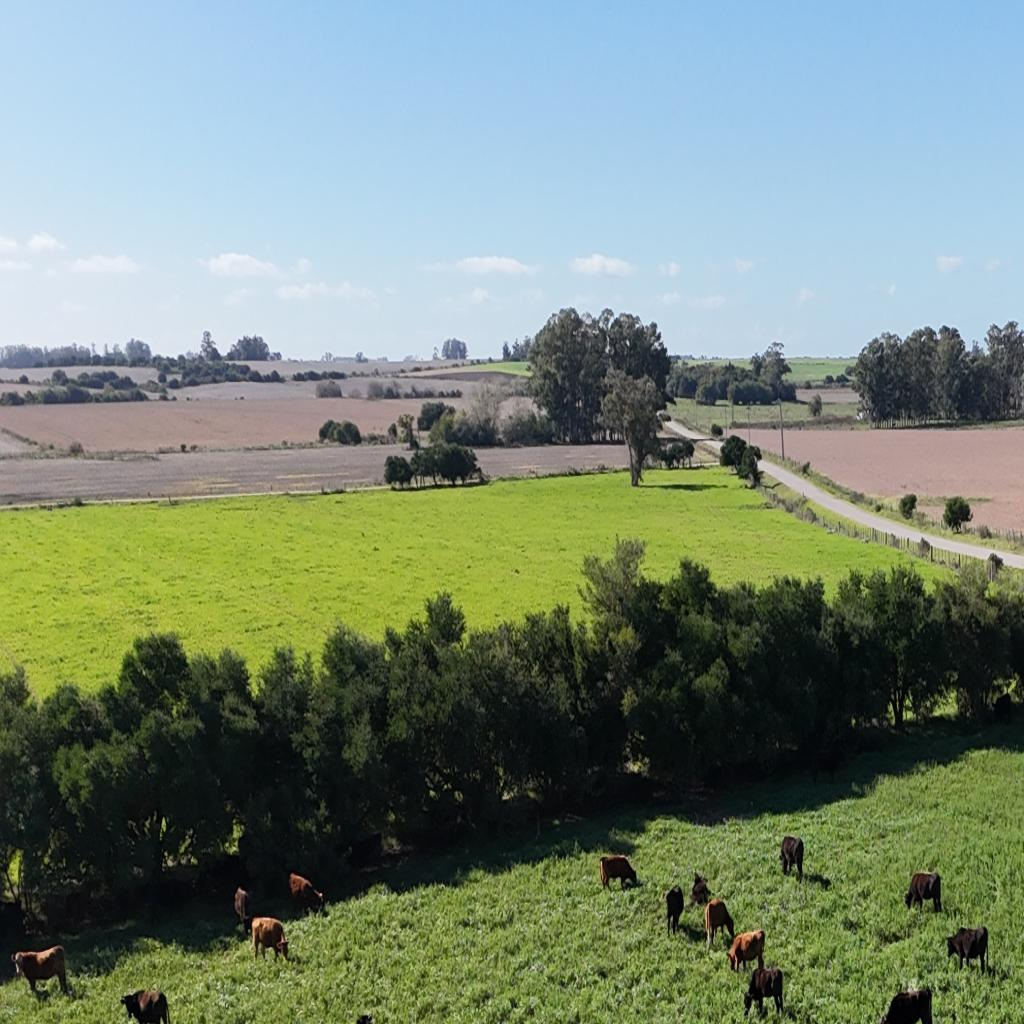cow: (11, 944, 71, 999), (591, 847, 645, 894), (742, 964, 785, 1018), (880, 984, 933, 1024), (945, 925, 988, 972), (250, 913, 290, 963), (119, 986, 171, 1024), (727, 927, 766, 973), (288, 871, 326, 917), (704, 897, 736, 950), (904, 873, 942, 917), (780, 834, 804, 880), (663, 884, 683, 936), (812, 748, 839, 782), (992, 693, 1016, 722), (233, 887, 250, 926), (690, 882, 710, 908), (691, 872, 709, 892), (355, 1012, 372, 1024)
